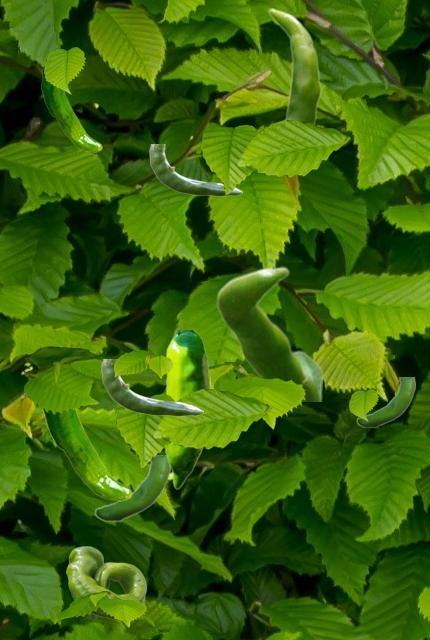green_chili: (216, 266, 321, 400), (42, 409, 131, 500), (164, 330, 209, 488), (267, 7, 321, 123), (66, 546, 145, 619), (101, 359, 202, 415), (41, 58, 101, 151), (94, 455, 169, 521), (149, 144, 241, 195), (356, 377, 414, 427)
